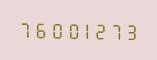one: (77, 19, 91, 40)
seven: (17, 18, 31, 39), (107, 20, 121, 40)
six: (32, 19, 46, 39)
three: (122, 20, 136, 41)
two: (92, 20, 106, 40)
zero: (47, 19, 61, 39), (62, 19, 76, 39)
